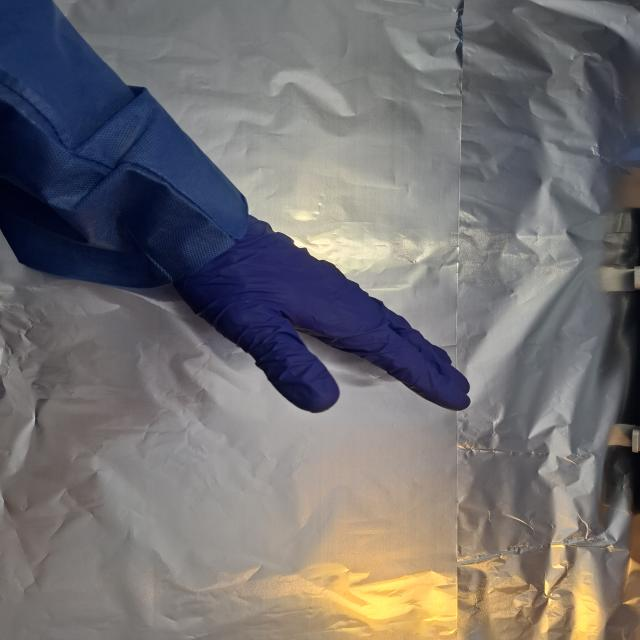glove_on: (166, 215, 473, 414)
